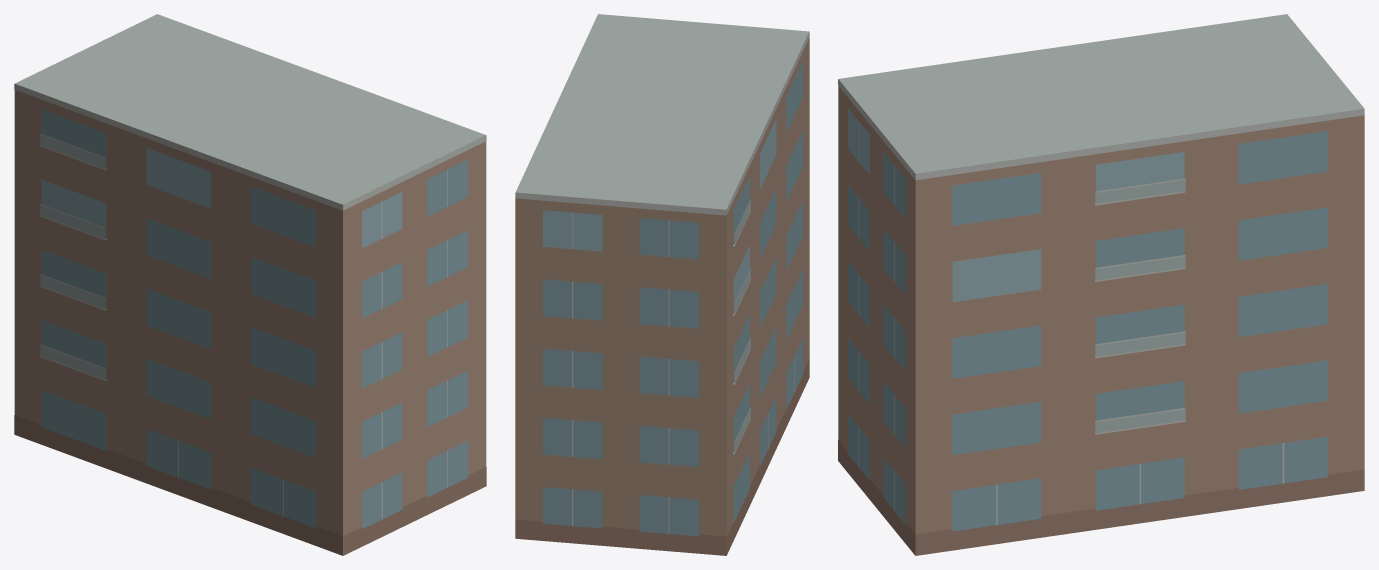
File: survey-upis-32747639.glb
3 views of the same model, side by side, from view 1: azimuth 30°, elevation 25°; view 2: azimuth 150°, elevation 25°; view 3: azimuth 270°, elevation 25° (orthographic). The views are drawn at different scales.
Parts seen in each view (by area): view 1: survey-upis-32747639.tmp; view 2: survey-upis-32747639.tmp; view 3: survey-upis-32747639.tmp.
Boxes of the visible parts, left/top/right/bottom form: survey-upis-32747639.tmp: left=14, top=14, right=486, bottom=555; survey-upis-32747639.tmp: left=515, top=14, right=809, bottom=555; survey-upis-32747639.tmp: left=838, top=14, right=1364, bottom=555.
Bounding box in the file's own units: 12.94 × 14.4 × 18.
